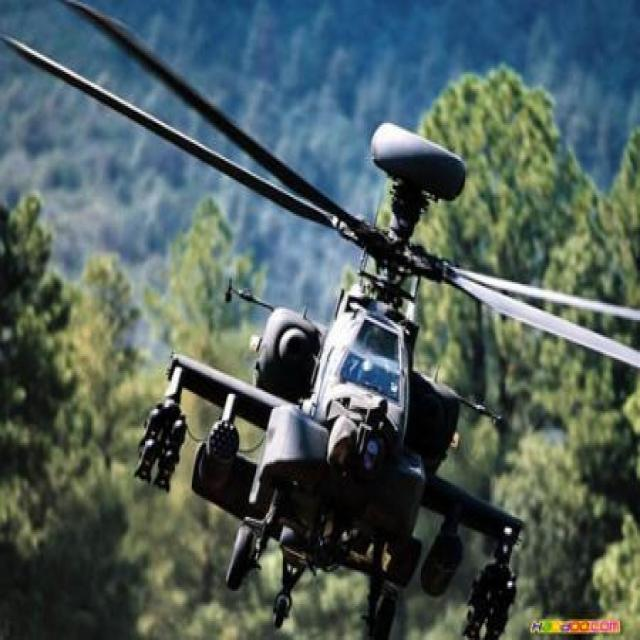MIL_HELO: (21, 0, 640, 640)
